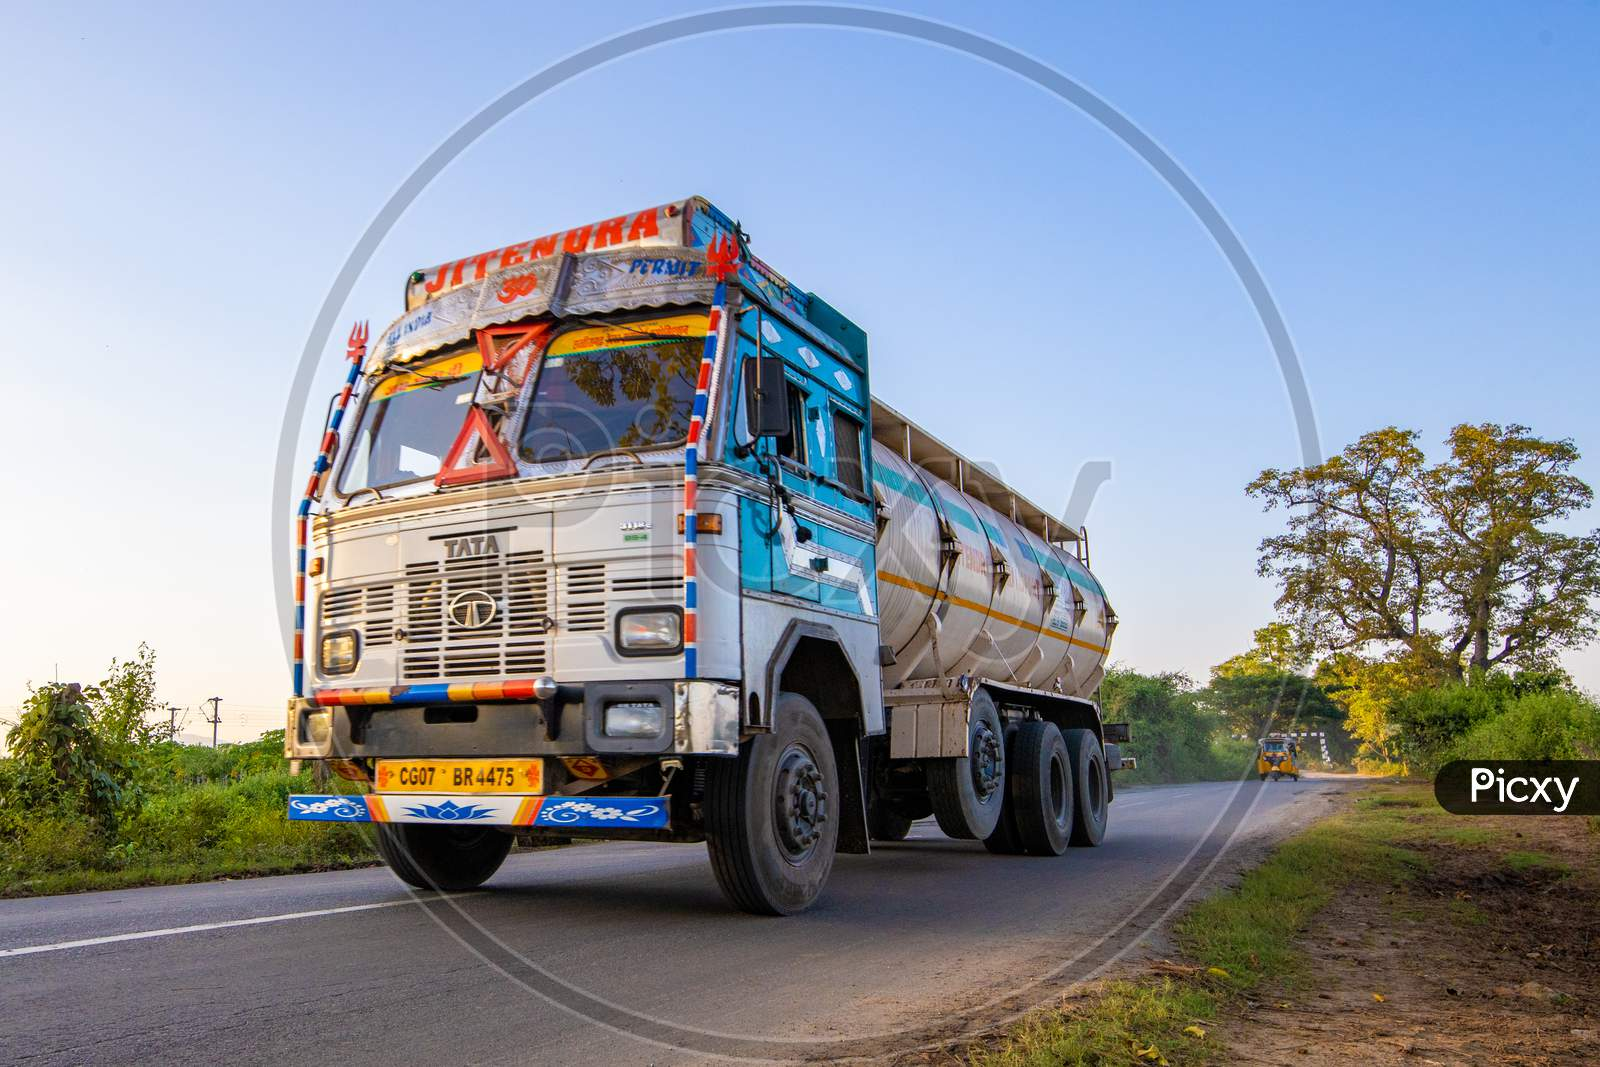rickshaw: (1255, 735, 1300, 784)
truck: (302, 237, 1115, 917)
